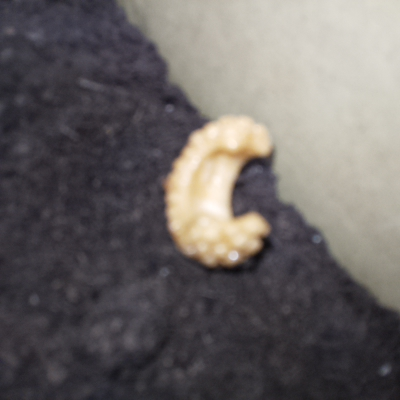eggs: (153, 100, 285, 274)
